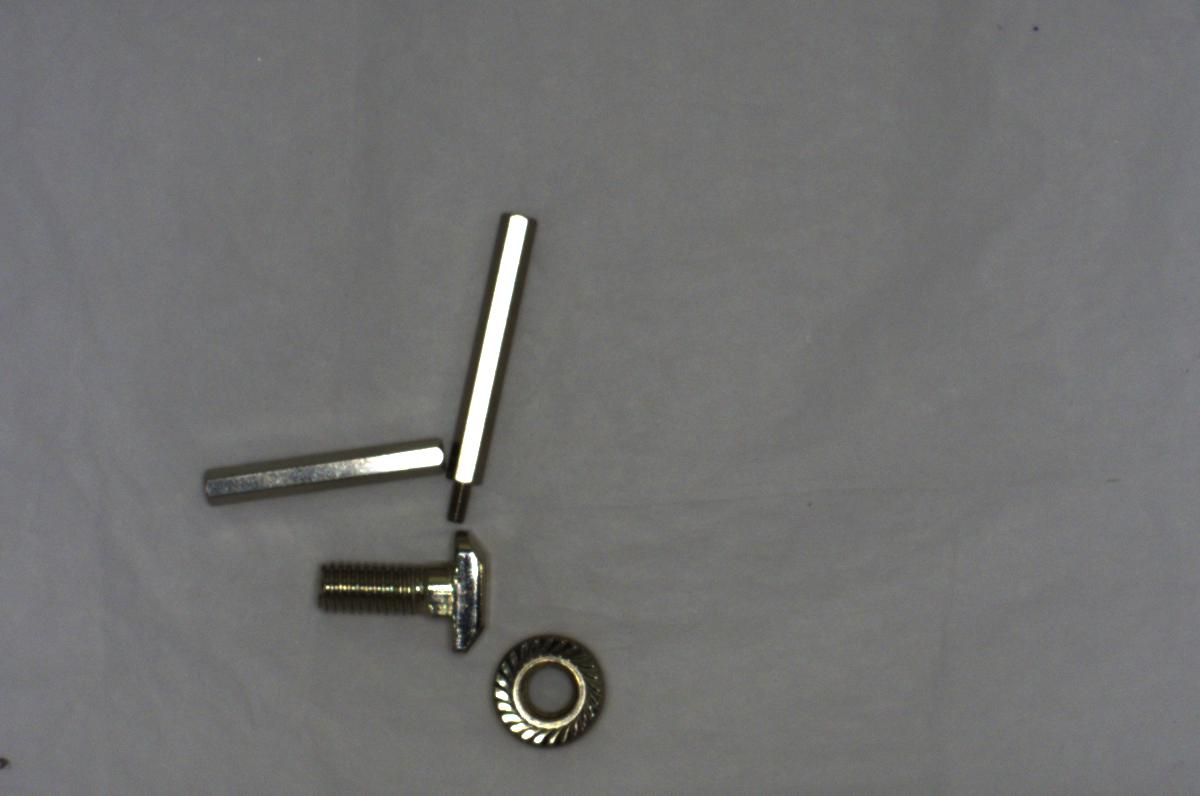Double hexagonal column: (188, 423, 445, 518)
Flange nut: (492, 627, 612, 747)
Hexagonal steel column: (441, 209, 531, 530)
T-shaped screw: (300, 527, 495, 663)
